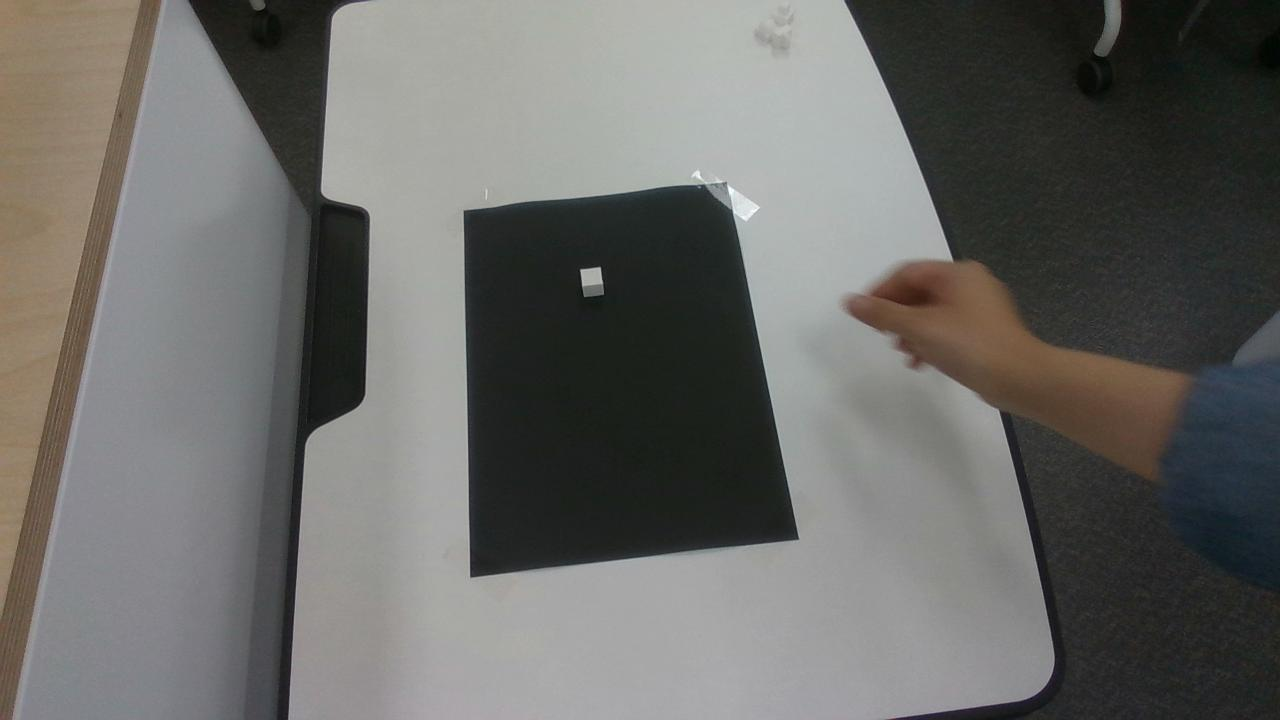cube: (581, 269, 602, 296)
